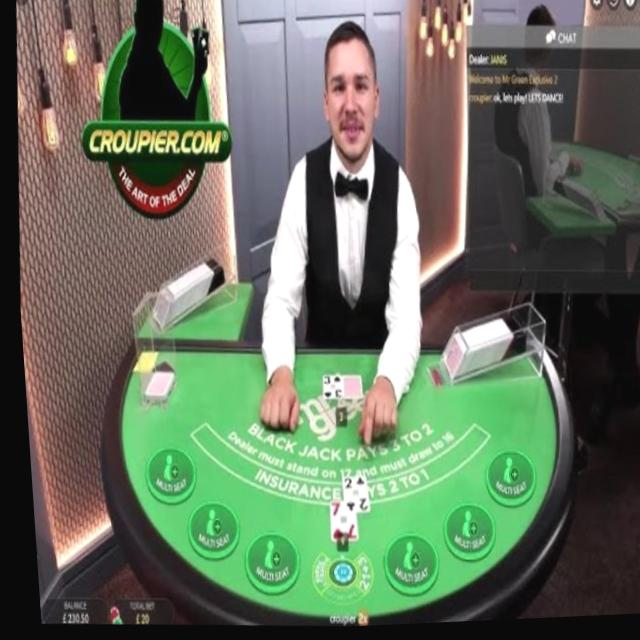Card-2: (335, 478, 363, 515)
Card-3: (316, 378, 337, 401)
Card-7: (322, 504, 349, 543)
